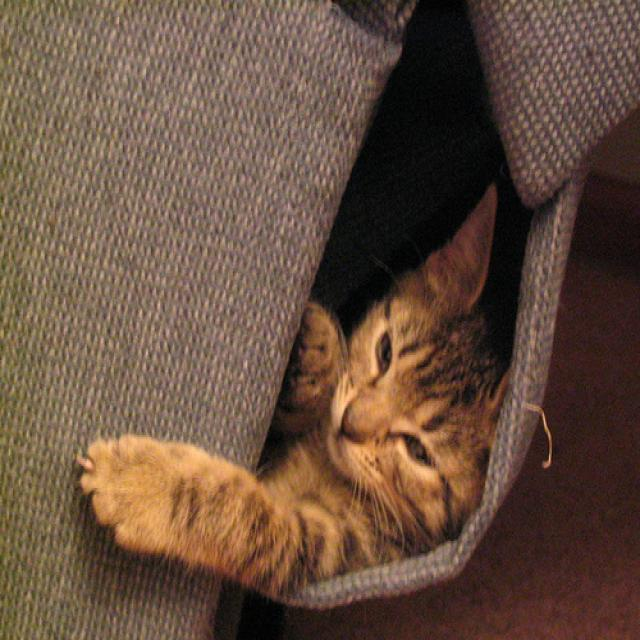cat: (78, 184, 512, 605)
